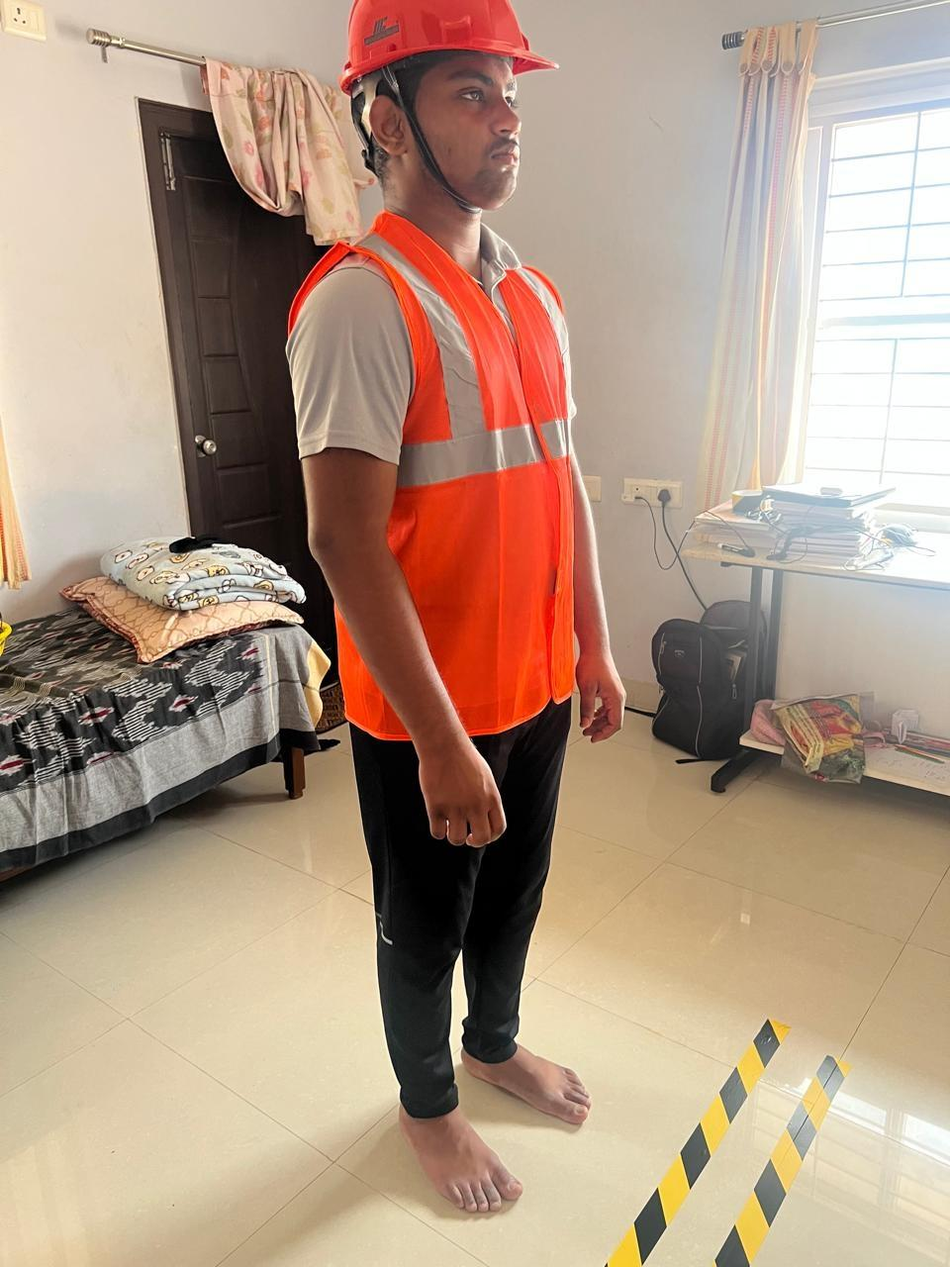BorderLine: (605, 1017, 853, 1267)
Helmet: (337, 0, 561, 213)
Person: (285, 1, 624, 1217)
Vest: (287, 210, 578, 742)
